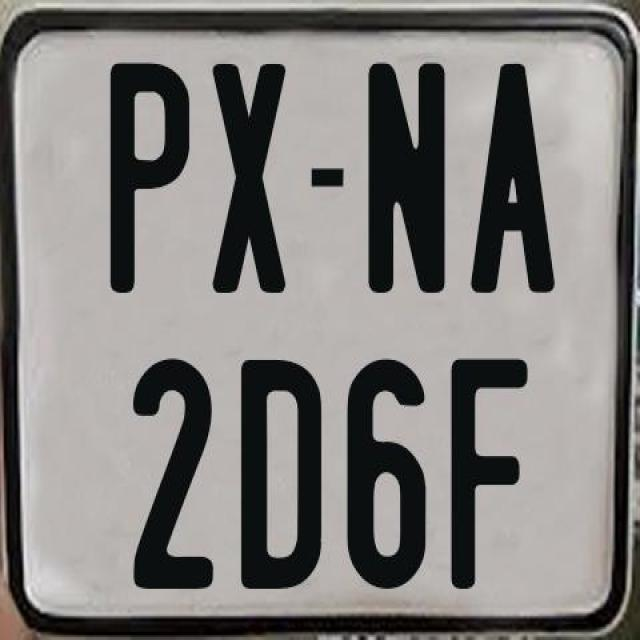2: (129, 354, 212, 594)
6: (344, 357, 431, 597)
A: (466, 60, 554, 298)
D: (242, 357, 326, 586)
F: (451, 357, 534, 589)
N: (364, 61, 442, 293)
P: (110, 58, 194, 292)
X: (208, 61, 286, 296)
